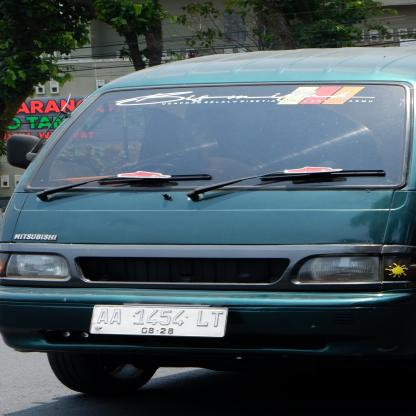Plat-Nomor: (84, 301, 232, 344)
